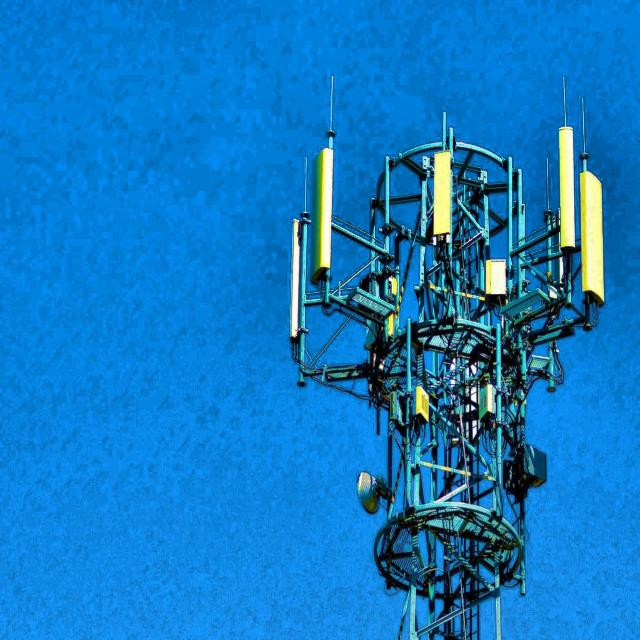antenna: (580, 171, 603, 303), (311, 147, 333, 282), (558, 126, 574, 247), (433, 151, 451, 235), (290, 219, 301, 339)
